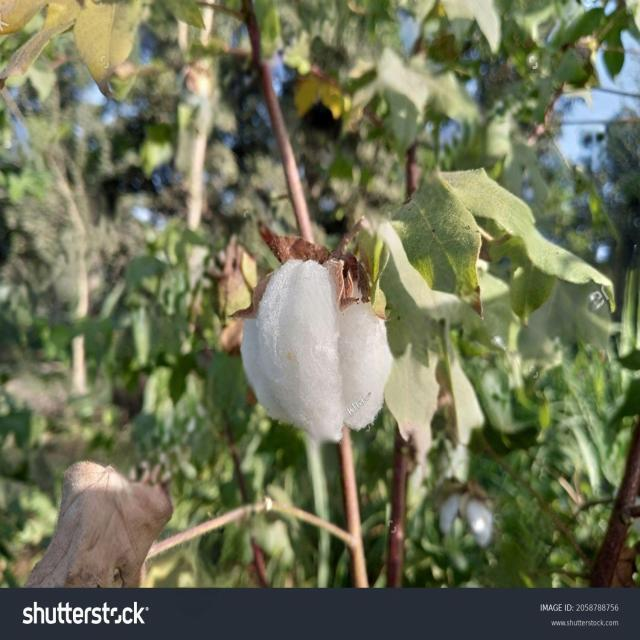Leaf: (222, 224, 413, 452)
